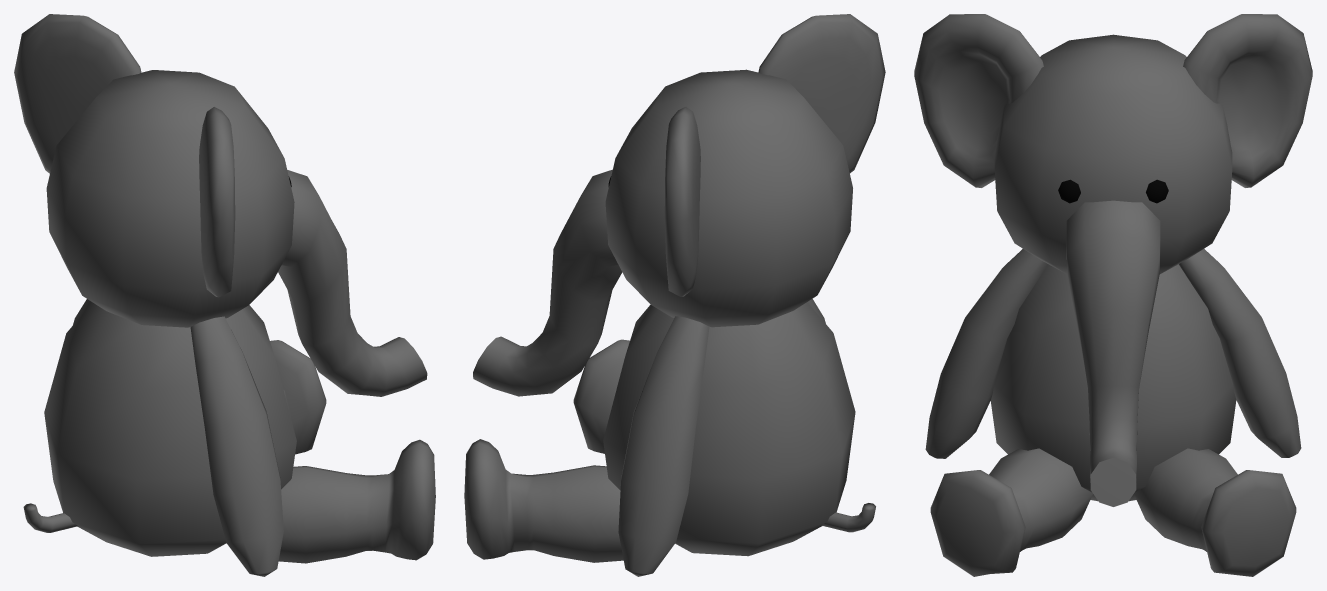
The model's file is Hephalump.fbx.
The picture shows the model from 3 angles, left to right: view 1: azimuth 30°, elevation 25°; view 2: azimuth 150°, elevation 25°; view 3: azimuth 270°, elevation 25°; orthographic projection. The views are drawn at different scales.
Visible parts, largest first — view 1: polySurface61, polySurface62, polySurface56, polySurface60, polySurface57; view 2: polySurface61, polySurface62, polySurface54, polySurface57, polySurface60; view 3: polySurface61, polySurface62, polySurface57, polySurface60, polySurface56, polySurface54.
Boxes of the visible parts, <box> form: polySurface61: <box>14,14,427,396</box>; polySurface62: <box>23,302,296,556</box>; polySurface56: <box>190,316,283,576</box>; polySurface60: <box>278,439,435,563</box>; polySurface57: <box>270,340,326,454</box>; polySurface61: <box>473,14,885,396</box>; polySurface62: <box>603,302,875,556</box>; polySurface54: <box>618,316,709,576</box>; polySurface57: <box>464,439,623,562</box>; polySurface60: <box>573,339,629,453</box>; polySurface61: <box>914,14,1312,506</box>; polySurface62: <box>990,264,1236,501</box>; polySurface57: <box>1134,448,1296,576</box>; polySurface60: <box>930,448,1092,576</box>; polySurface56: <box>925,249,1048,458</box>; polySurface54: <box>1179,249,1301,457</box>.
Size of the model in its own units: 8.52 by 10.04 by 7.7.
1 material, 1 textured.
